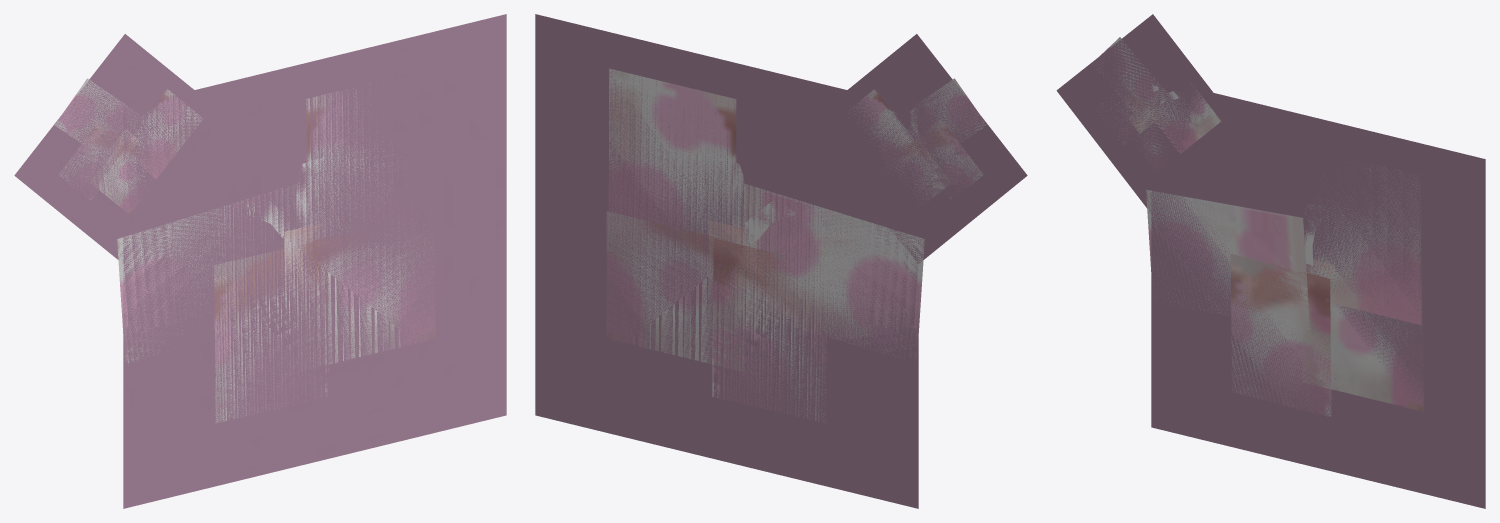
The model's file is Butterfly.glb.
3 views of the same model, side by side, from view 1: azimuth 30°, elevation 25°; view 2: azimuth 150°, elevation 25°; view 3: azimuth 330°, elevation 25° (orthographic). The views are drawn at different scales.
Visible parts, largest first — view 1: Butterfly, Butterfly (1); view 2: Butterfly, Butterfly (1); view 3: Butterfly, Butterfly (1).
Part boxes in pixels (x1,y1,x2,y2): Butterfly: [117, 14, 506, 508]; Butterfly (1): [14, 34, 233, 263]; Butterfly: [535, 14, 924, 508]; Butterfly (1): [807, 34, 1027, 263]; Butterfly: [1146, 84, 1485, 508]; Butterfly (1): [1056, 14, 1247, 213].
Bounding box in the file's own units: 0.8072 × 0.7438 × 0.
1 material, 1 textured.
